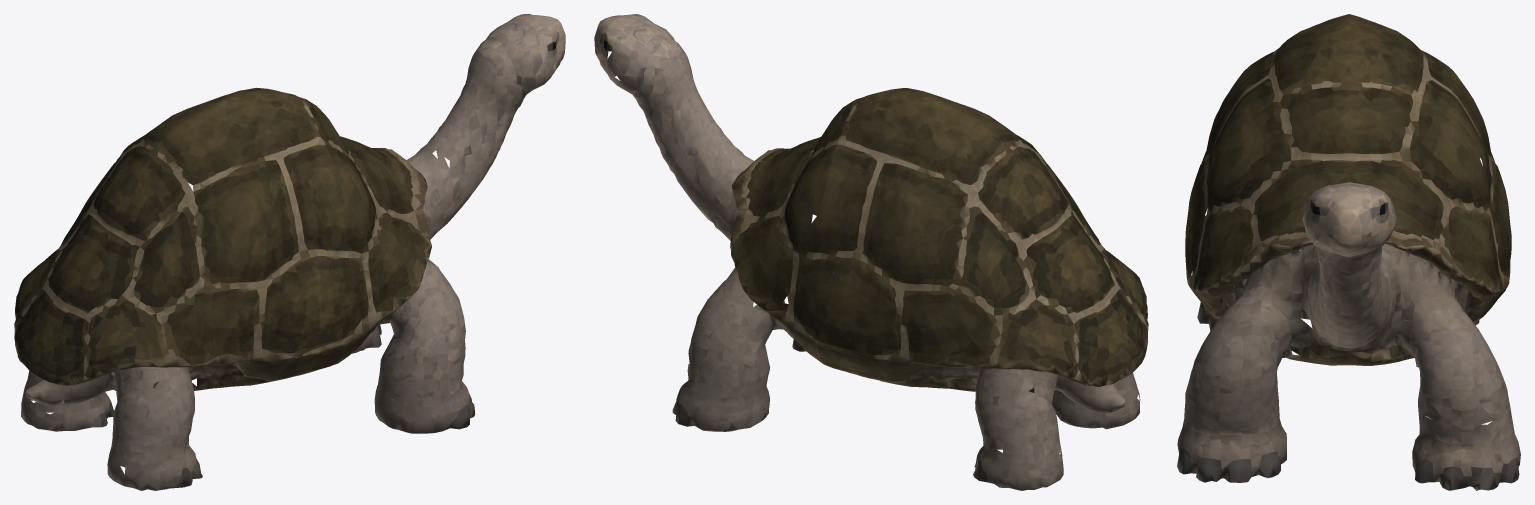
File: tortoise.glb
3 views of the same model, side by side, from view 1: azimuth 30°, elevation 25°; view 2: azimuth 150°, elevation 25°; view 3: azimuth 270°, elevation 25° (orthographic). The views are drawn at different scales.
Parts seen in each view (by area): view 1: tortoise; view 2: tortoise; view 3: tortoise.
Part boxes in pixels (x1=…): tortoise: x1=14, y1=14, x2=565, y2=490; tortoise: x1=594, y1=14, x2=1148, y2=490; tortoise: x1=1177, y1=14, x2=1520, y2=490.
Size of the model in its own units: 1.6 by 0.9159 by 0.7861.
1 material, 1 textured.
